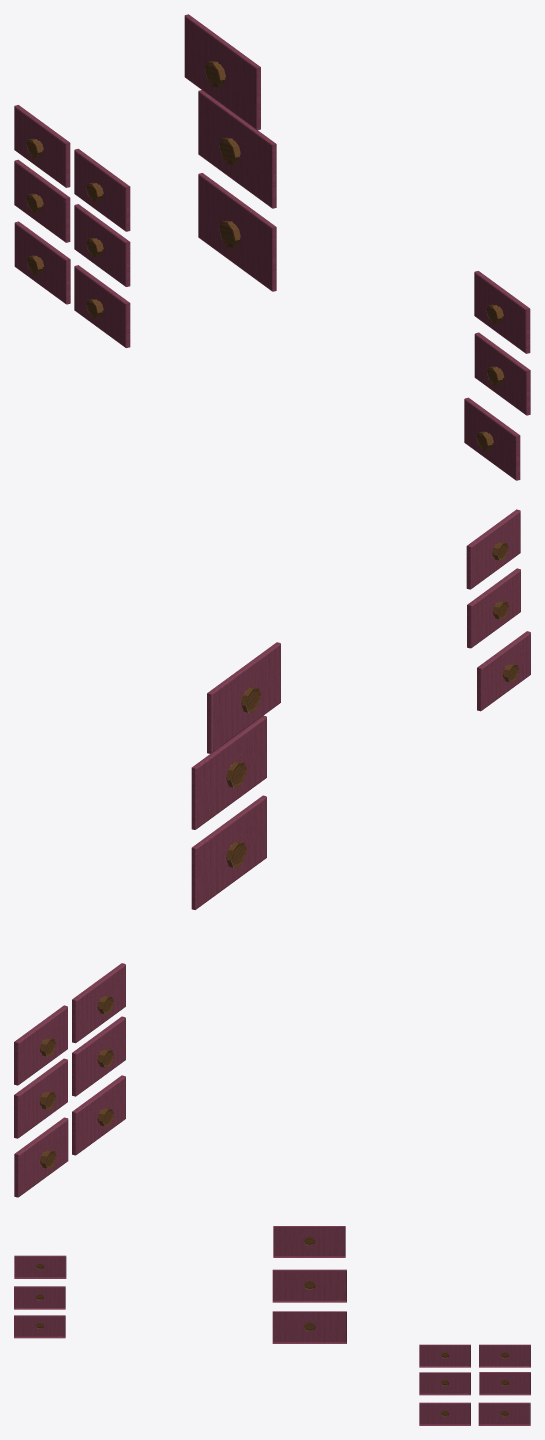
Rendered from cajon.obj.
3 renders of one model, top to bottom at view 1: azimuth 30°, elevation 25°; view 2: azimuth 150°, elevation 25°; view 3: azimuth 270°, elevation 25°, orthographic. The views are drawn at different scales.
Parts seen in each view (by area): view 1: polySurface51; view 2: polySurface51; view 3: polySurface51.
Part boxes in pixels (<box>): polySurface51: <box>14,14,530,480</box>; polySurface51: <box>14,509,530,1197</box>; polySurface51: <box>14,1226,530,1425</box>.
Bounding box in the file's own units: 0.1221 × 1.68 × 4.02.
Materials: 8 (8 with a texture image).
